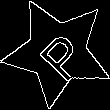P_NW: (27, 21, 88, 82)
